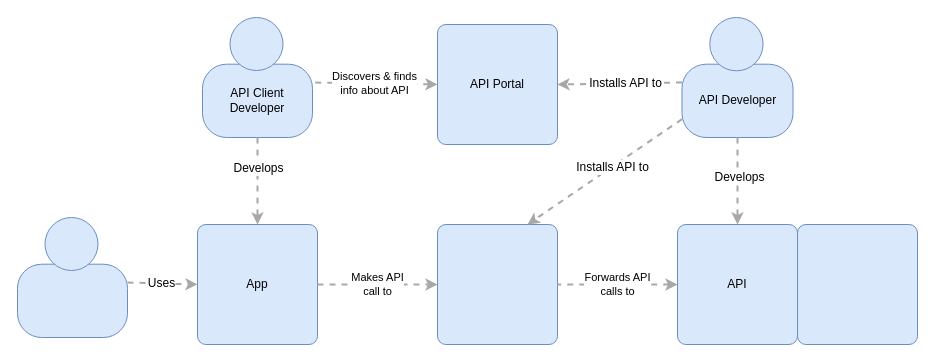
Some shapes in this 935 by 362 pixel diagram are drawn without their labels. The shapes that lost their labels are listed below. From the top down, each one's centre as x and y in pixels, then its label:
(72,300): End User
(497,284): API Gateway
(857,284): Backend System
